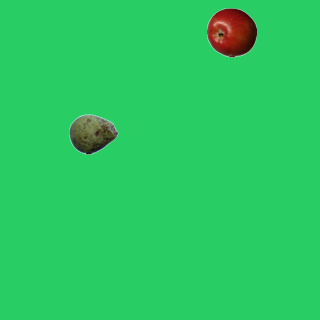Apple Braeburn: (206, 7, 256, 57)
Pear Stone: (68, 109, 118, 159)
